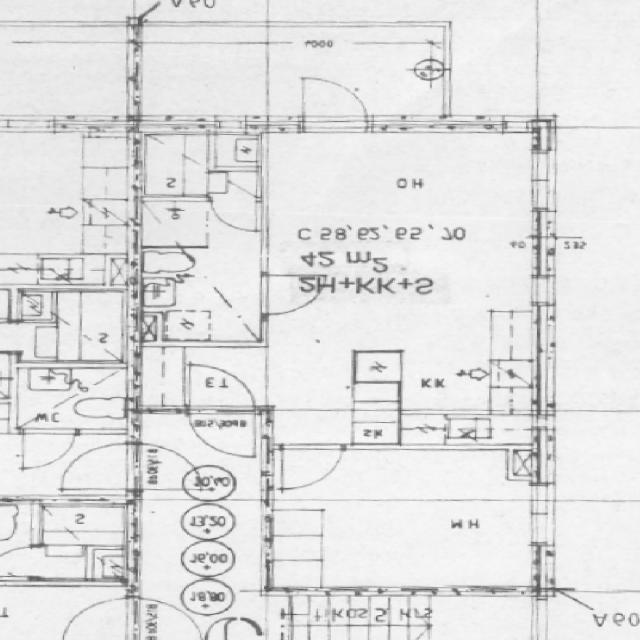door: (304, 72, 367, 133), (189, 405, 255, 460), (189, 360, 255, 414), (283, 444, 342, 491), (261, 274, 328, 315), (211, 196, 256, 232)
